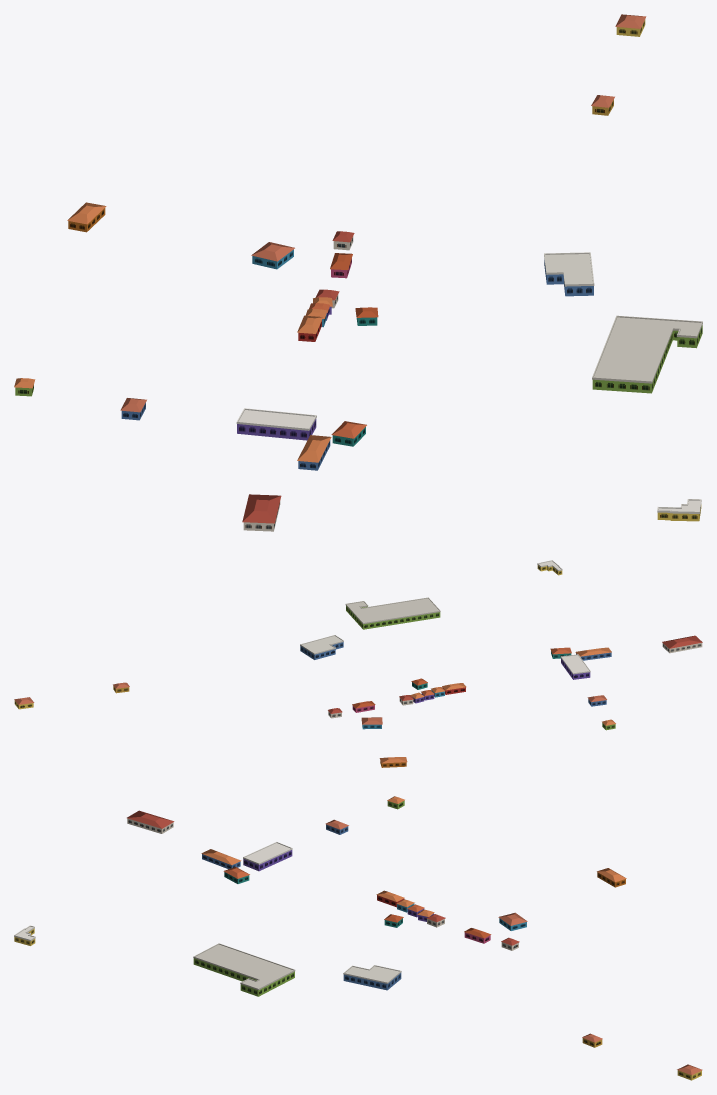
File: msb_oranjestad_m21_m2.glb
3 views of the same model, one above another, from view 1: azimuth 30°, elevation 25°; view 2: azimuth 150°, elevation 25°; view 3: azimuth 270°, elevation 25° (orthographic). The views are drawn at different scales.
Visible parts, largest first — view 1: msb_oranjestad_m21_m2_lod0; view 2: msb_oranjestad_m21_m2_lod0; view 3: msb_oranjestad_m21_m2_lod0.
Boxes of the visible parts, <box> form: msb_oranjestad_m21_m2_lod0: <box>14,14,702,531</box>; msb_oranjestad_m21_m2_lod0: <box>14,560,702,767</box>; msb_oranjestad_m21_m2_lod0: <box>14,796,702,1080</box>.
Size of what is drawn, in the model's own units: 366 by 11.1 by 384.
Materials: 3 (1 with a texture image).
